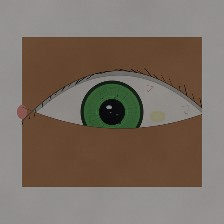pinguecula_lesion: (142, 104, 173, 129)
